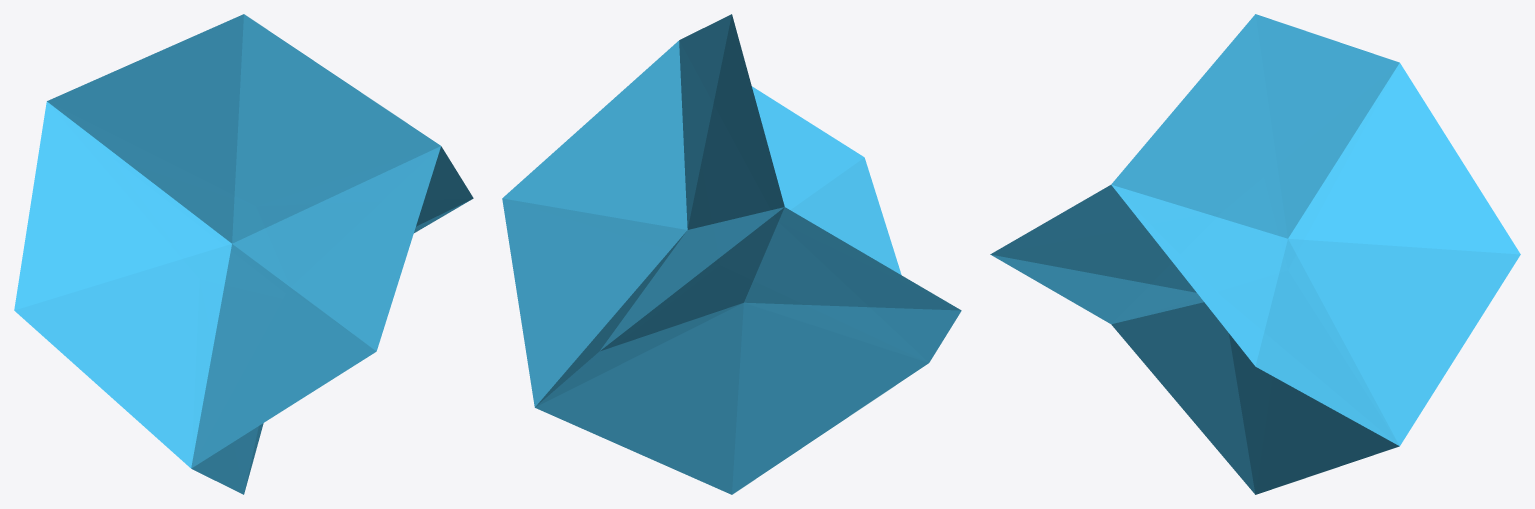
The model's file is Mobius241.obj.
3 renders of one model, left to right at view 1: azimuth 30°, elevation 25°; view 2: azimuth 150°, elevation 25°; view 3: azimuth 270°, elevation 25°, orthographic.
Bounding box in the file's own units: 2.24 × 2.24 × 2.24.
